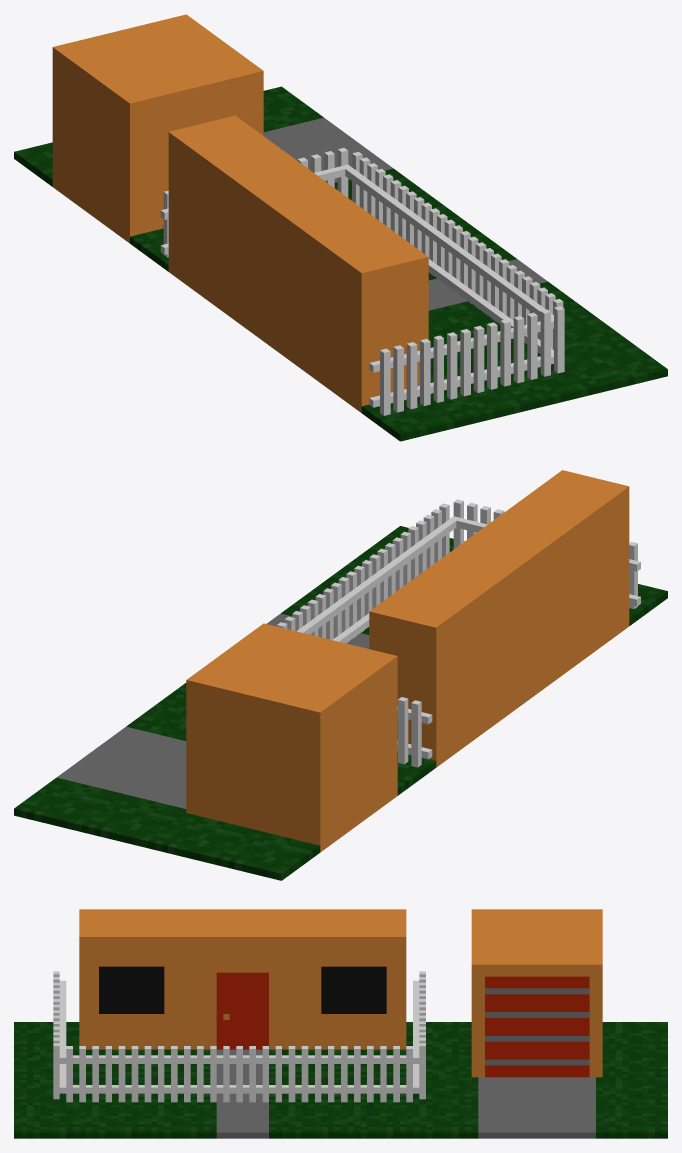
The model's file is house_orange.fbx.
3 views of the same model, one above another, from view 1: azimuth 30°, elevation 25°; view 2: azimuth 150°, elevation 25°; view 3: azimuth 270°, elevation 25° (orthographic). The views are drawn at different scales.
Visible parts, largest first — view 1: Union; view 2: Union; view 3: Union.
Boxes of the visible parts, <box> form: Union: <box>14,14,667,441</box>; Union: <box>14,470,667,880</box>; Union: <box>14,909,667,1138</box>.
Bounding box in the file's own units: 40 × 20 × 100.
